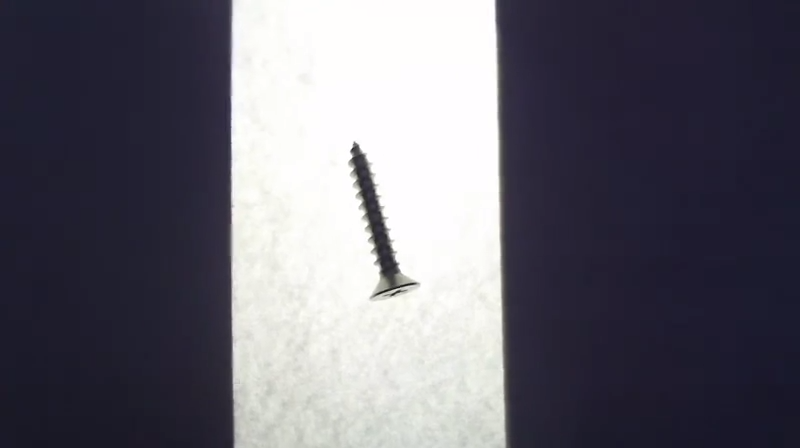S001: (343, 135, 425, 307)
